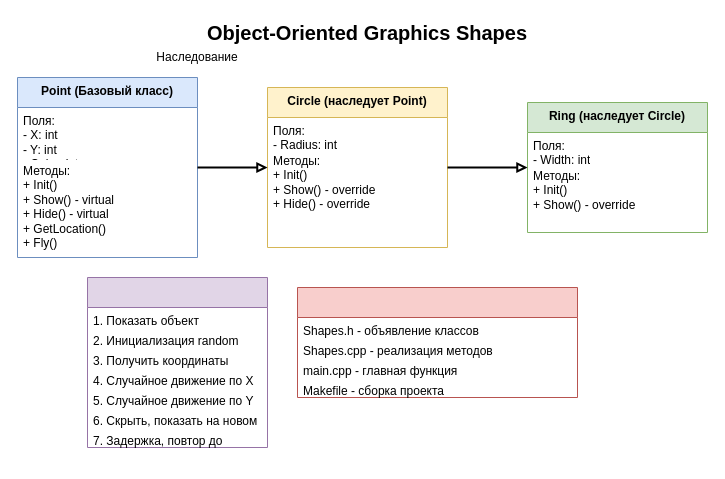
Image size: 725x479. Some labels were removed from this diagram. The shapes that lost their labels are listed below. From the top down, each one's box as (x1, y1, x2, y2) in pixels, then its label:
(86, 276, 268, 448): Алгоритм Fly()
(296, 286, 578, 398): Структура файлов
